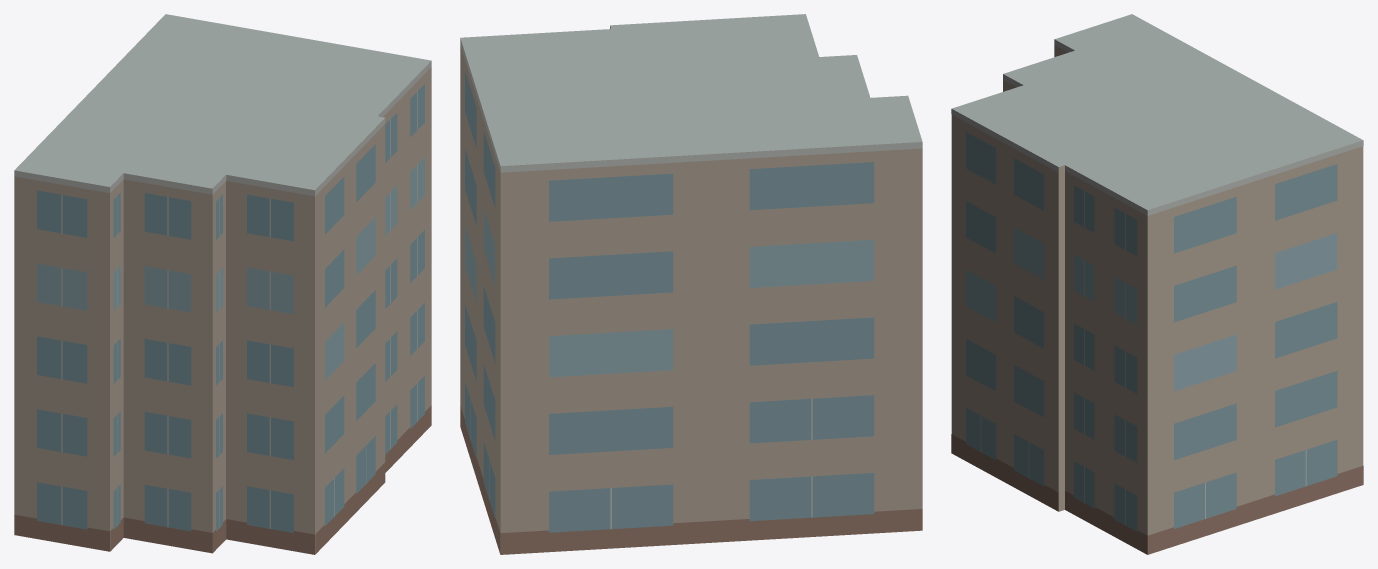
Rendered from survey-upis-32619437.glb.
The picture shows the model from 3 angles, left to right: view 1: azimuth 30°, elevation 25°; view 2: azimuth 150°, elevation 25°; view 3: azimuth 270°, elevation 25°; orthographic projection. The views are drawn at different scales.
Visible parts, largest first — view 1: survey-upis-32619437.tmp; view 2: survey-upis-32619437.tmp; view 3: survey-upis-32619437.tmp.
Boxes of the visible parts, x1,y1,x2,y2 form: survey-upis-32619437.tmp: (14,14,431,554); survey-upis-32619437.tmp: (460,14,922,554); survey-upis-32619437.tmp: (951,14,1363,554).
Bounding box in the file's own units: 17.9 × 14.65 × 15.88.
